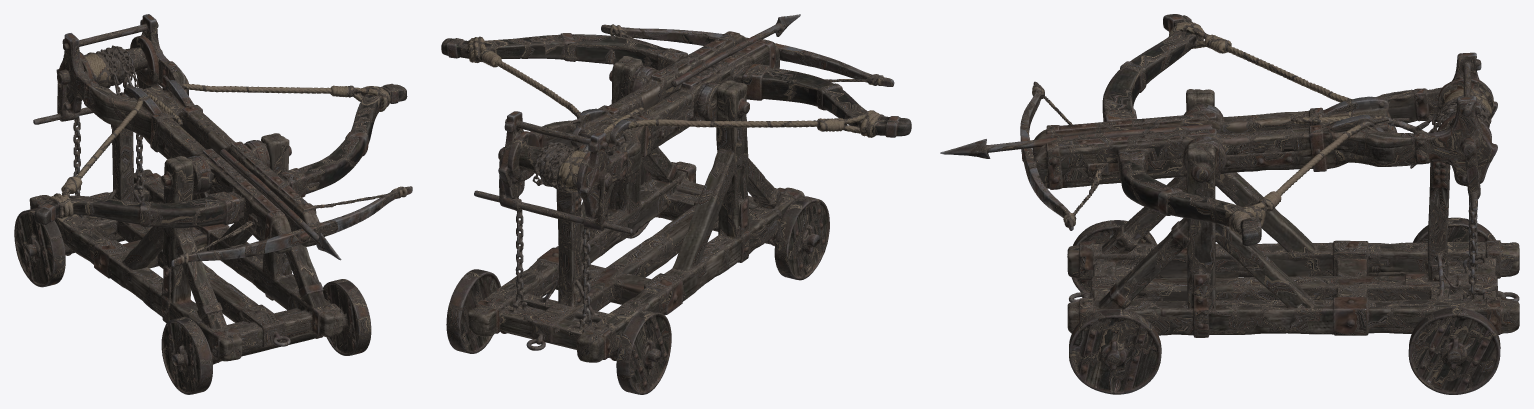
Rendered from scorpion.glb.
3 views of the same model, side by side, from view 1: azimuth 30°, elevation 25°; view 2: azimuth 150°, elevation 25°; view 3: azimuth 270°, elevation 25° (orthographic). The views are drawn at different scales.
Visible parts, largest first — view 1: AE_Forward_PlusZ; view 2: AE_Forward_PlusZ; view 3: AE_Forward_PlusZ.
Boxes of the visible parts, <box> form: AE_Forward_PlusZ: <box>14,14,412,394</box>; AE_Forward_PlusZ: <box>441,14,911,394</box>; AE_Forward_PlusZ: <box>940,14,1519,394</box>.
Bounding box in the file's own units: 1.77 × 0.9855 × 1.92.
1 material, 1 textured.
